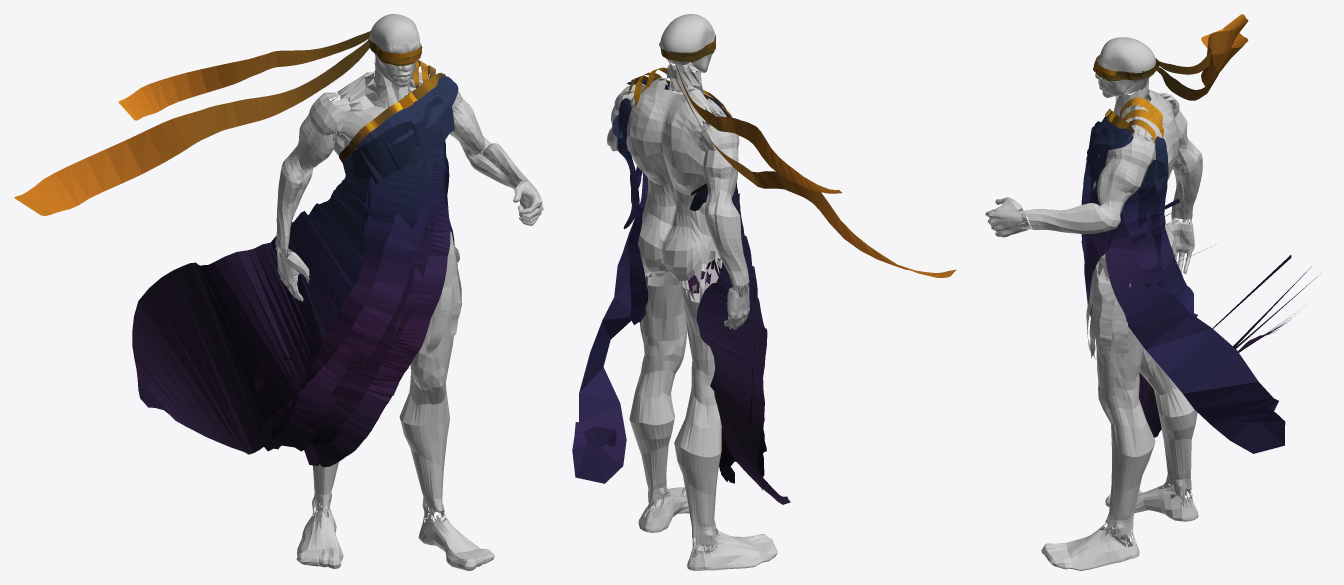
File: Guy-01_ref-negar.fbx
3 renders of one model, left to right at view 1: azimuth 30°, elevation 25°; view 2: azimuth 150°, elevation 25°; view 3: azimuth 270°, elevation 25°, orthographic. The views are drawn at different scales.
Visible parts, largest first — view 1: Clothes, Cube.003, Blindflod-01, Blindfold, NewLayer1; view 2: Cube.003, Clothes, Blindflod-01, Blindfold; view 3: Cube.003, Clothes, NewLayer1, Blindflod-01, Blindfold.
Part boxes in pixels (bbox=[...]): Clothes: bbox=[132, 60, 458, 467]; Cube.003: bbox=[275, 14, 543, 570]; Blindflod-01: bbox=[14, 35, 422, 215]; Blindfold: bbox=[118, 31, 370, 120]; NewLayer1: bbox=[426, 231, 461, 357]; Cube.003: bbox=[607, 14, 777, 570]; Clothes: bbox=[572, 67, 790, 504]; Blindflod-01: bbox=[659, 34, 956, 277]; Blindfold: bbox=[673, 58, 841, 193]; Cube.003: bbox=[985, 37, 1202, 570]; Clothes: bbox=[1081, 97, 1321, 453]; NewLayer1: bbox=[1086, 253, 1130, 359]; Blindflod-01: bbox=[1093, 29, 1248, 100]; Blindfold: bbox=[1156, 14, 1248, 74].
Bounding box in the file's own units: 0.8946 × 1.09 × 0.6768.
